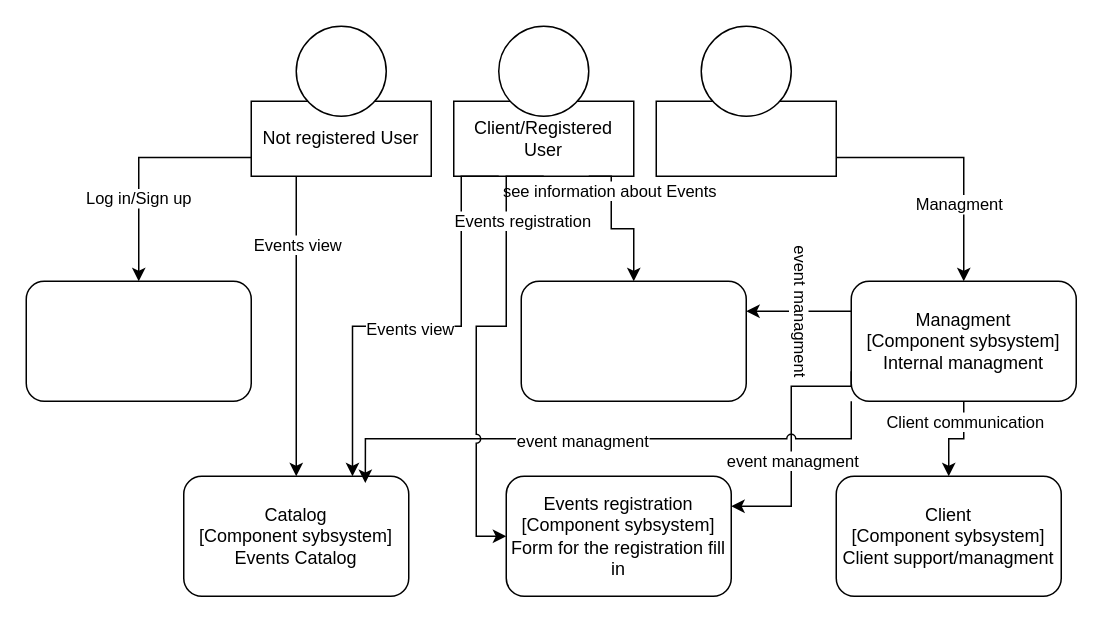
This 1103x623 diagram has some shape labels left out. Each missing label, with the centre of its shape:
"Admin/Boss" goes at pixel 745 138.
"Events [Component sybsystem] Information and dates for events" goes at pixel 633 340.
"Web-Site [Component sybsystem] Log in/Sign up" goes at pixel 138 340.
